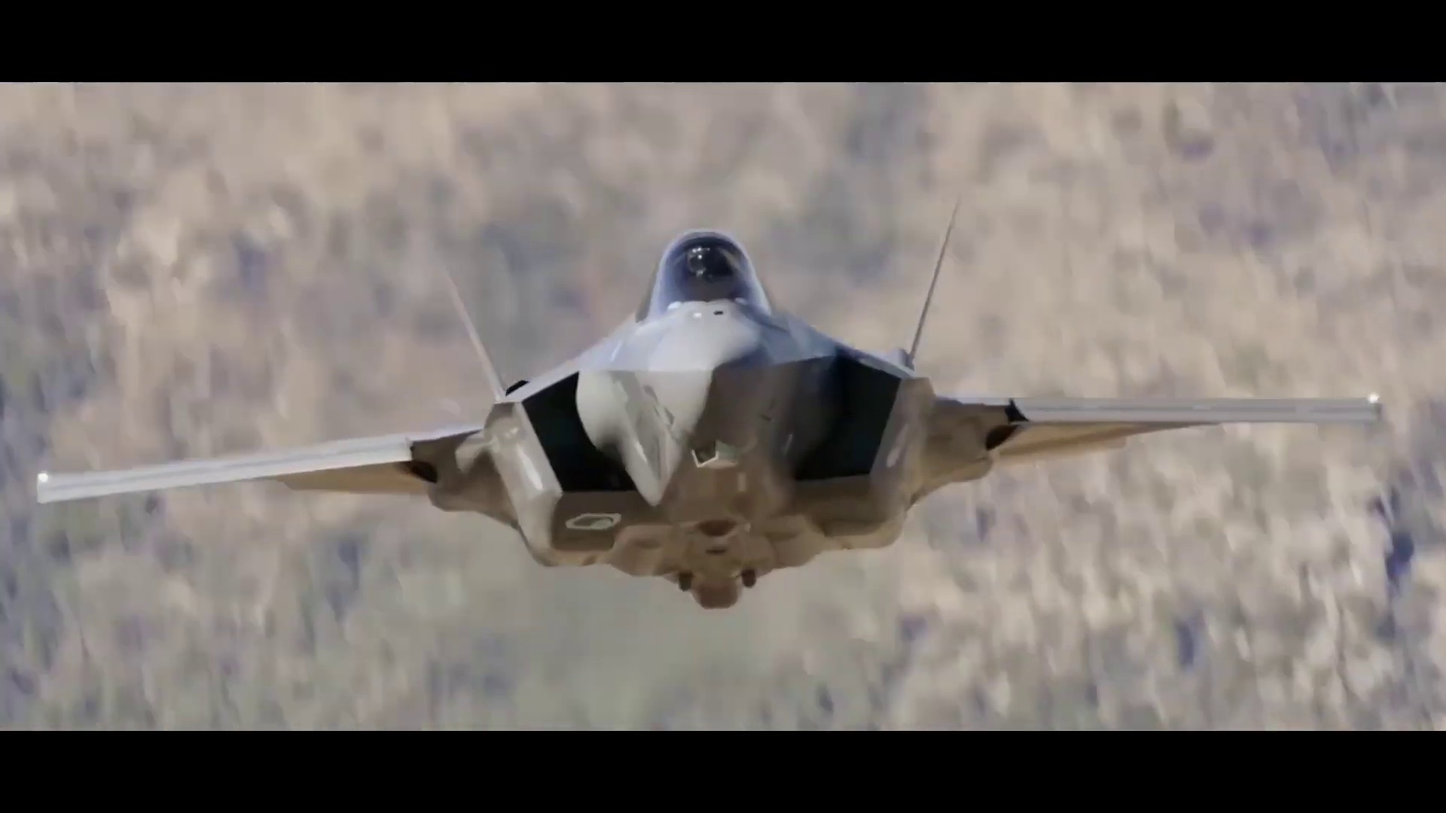F35: (26, 214, 1385, 605)
